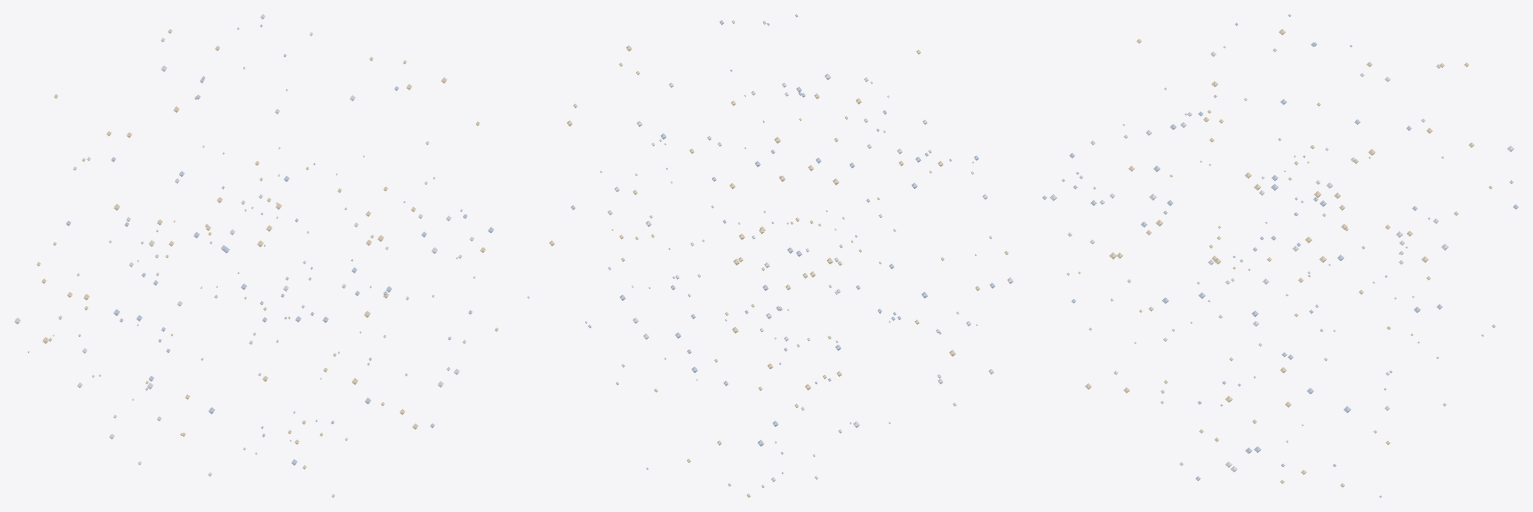
3 renders of one model, left to right at view 1: azimuth 30°, elevation 25°; view 2: azimuth 150°, elevation 25°; view 3: azimuth 270°, elevation 25°, orthographic. The views are drawn at different scales.
Size of the model in its own units: 5 by 4.86 by 4.7.
